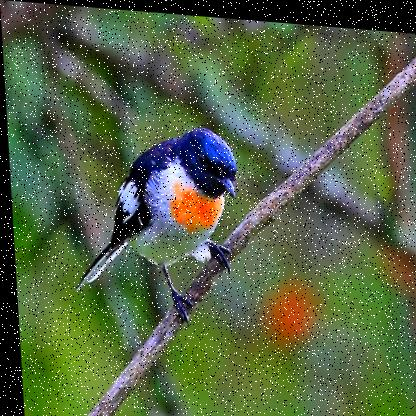Burung: (63, 116, 242, 327)
